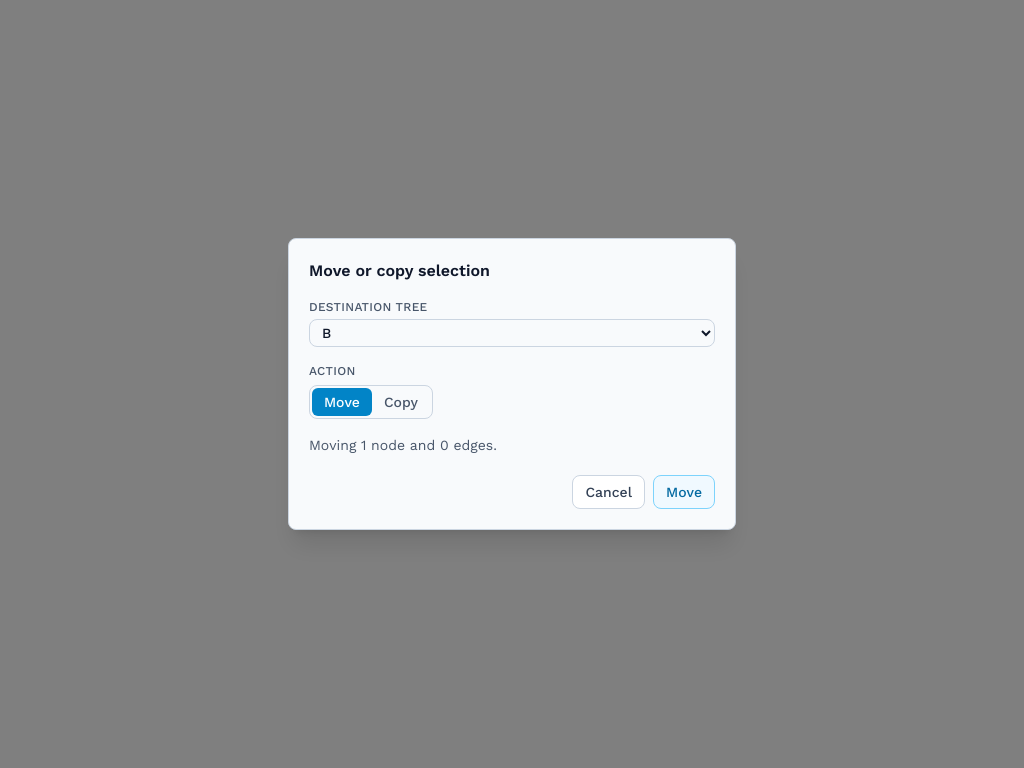
Test: MoveCopyModal › defaults to Move and toggles to Copy, updating the summary verb
Check: the text "Moving 1 node and 0 edges." is shown, box x1=309 y1=437 x2=497 y2=453
Click the radio button labelled "Copy" at coordinates (401, 402), box x1=372 y1=388 x2=430 y2=416
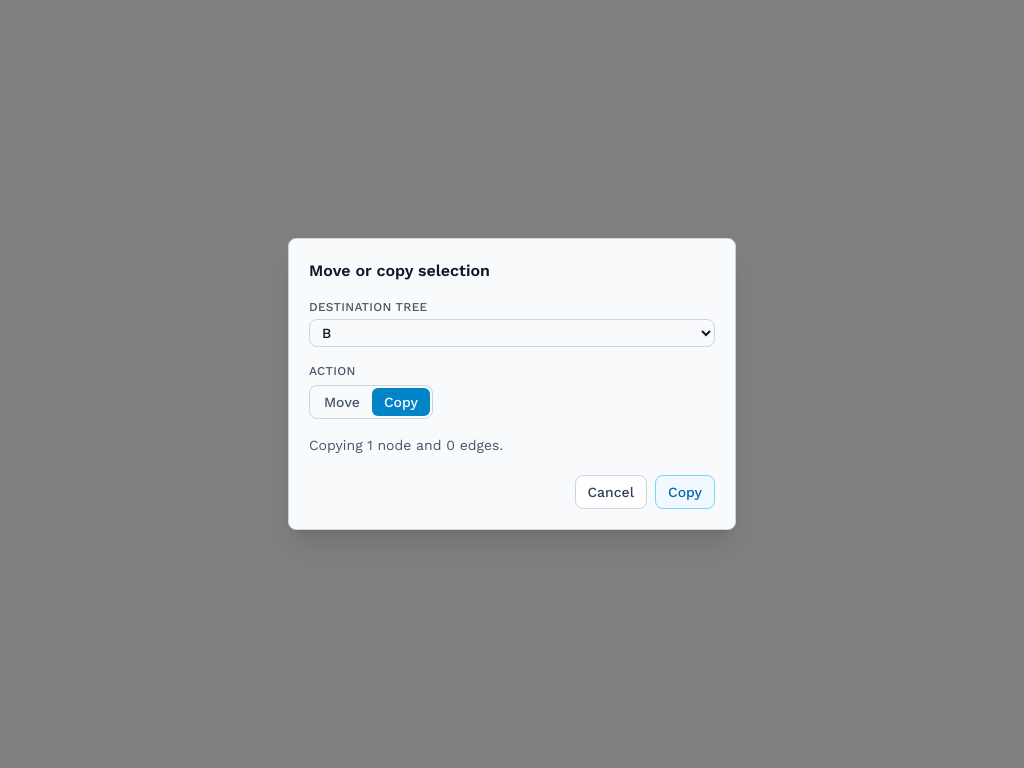
Check: the text "Copying 1 node and 0 edges." is shown, box x1=309 y1=437 x2=503 y2=453
Check: the button "Copy" is shown, box x1=655 y1=475 x2=715 y2=509
